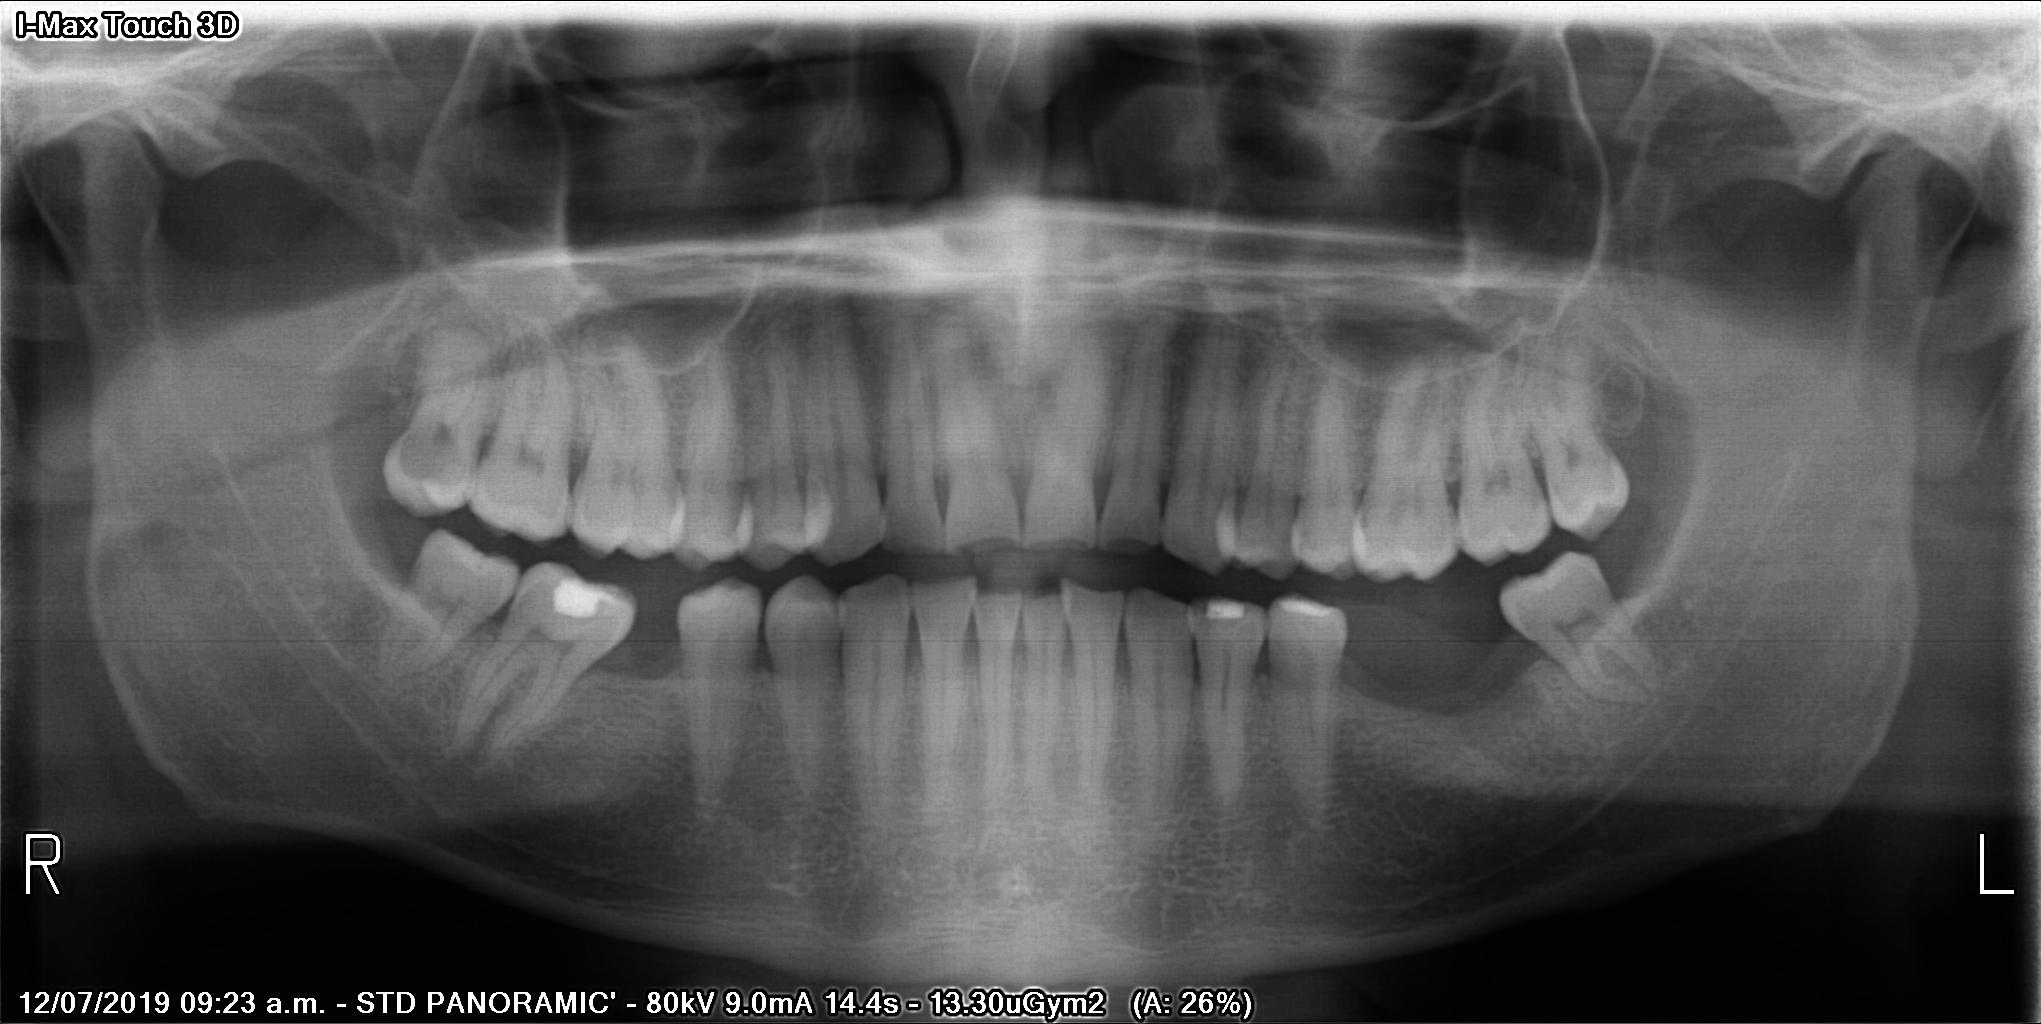Çürük: (542, 572, 610, 631), (1195, 597, 1252, 628)
